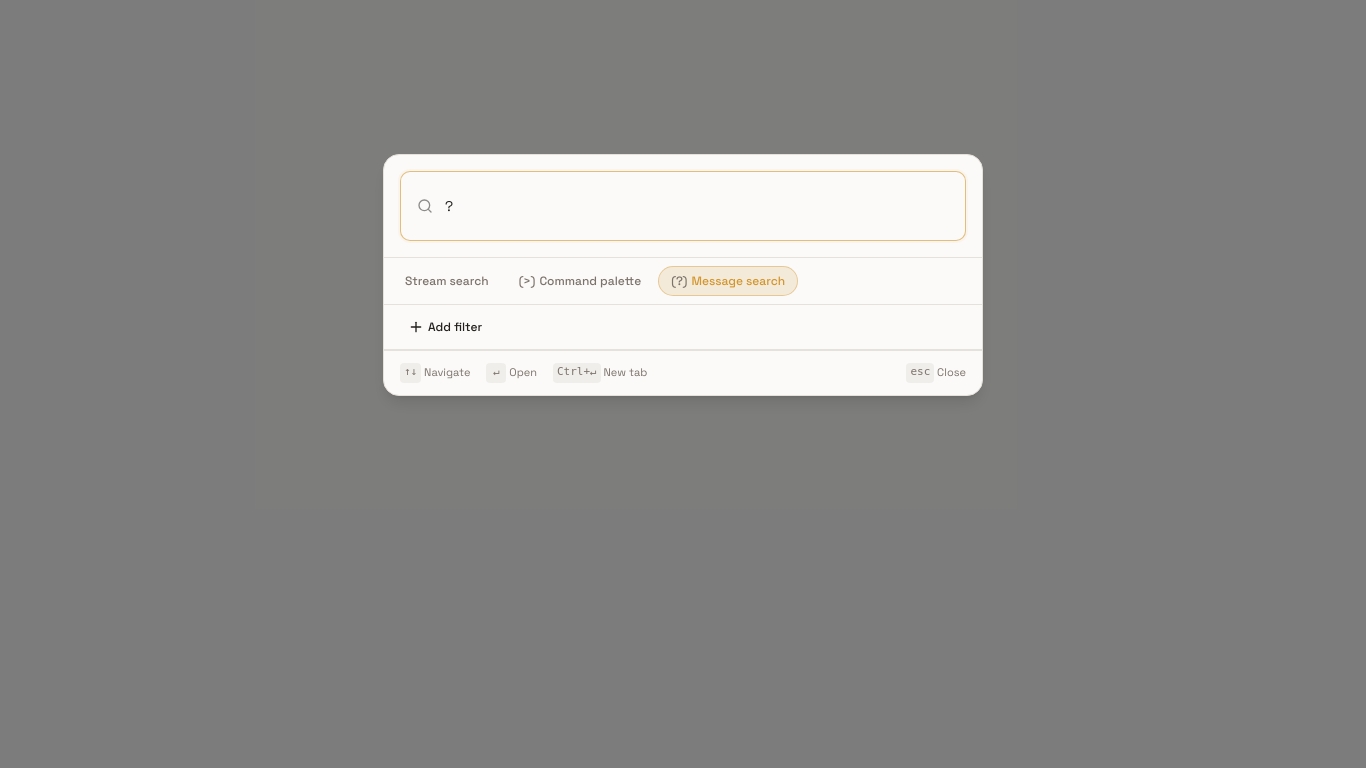
Test: QuickSwitcher Integration Tests › search mode › should add filter via dropdown menu
// Click "Add filter" button
Click the button "Add filter": {"x": 445, "y": 327} [396,313,494,341]
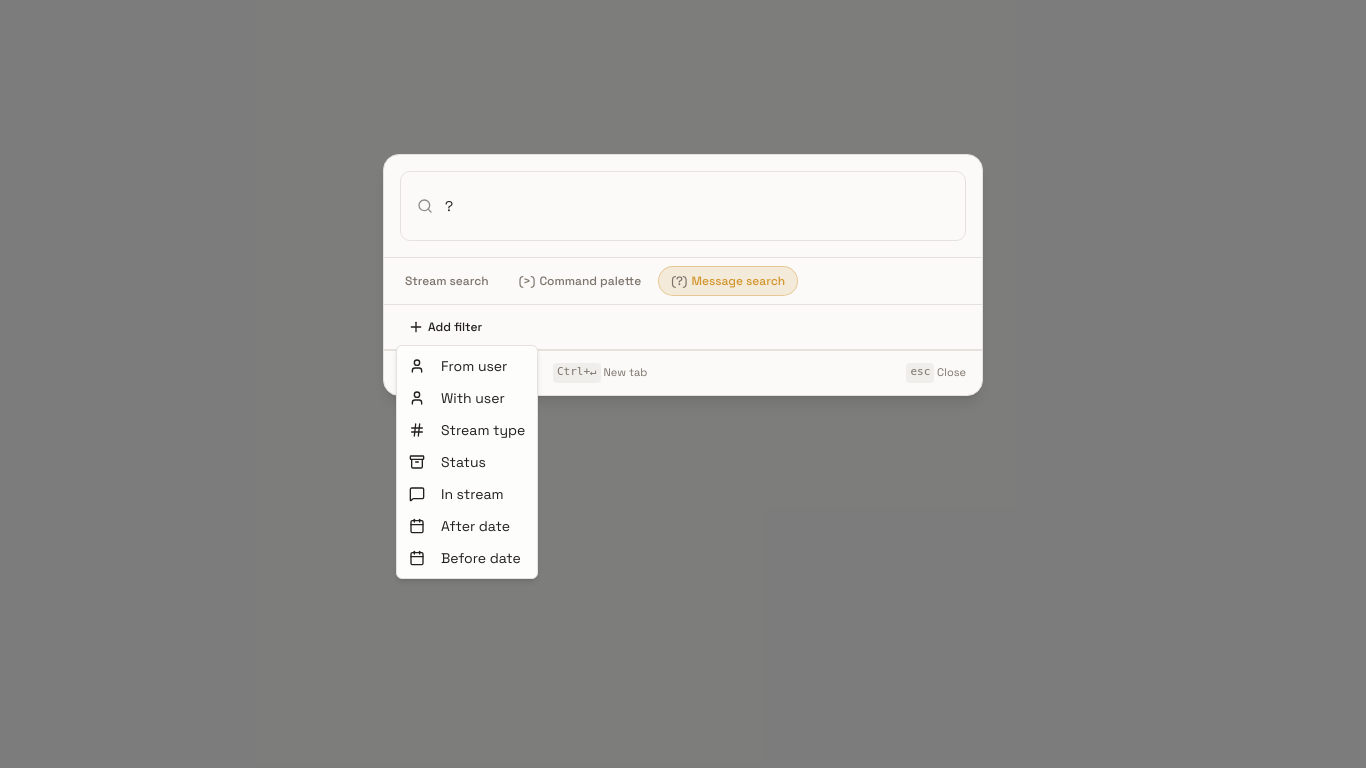
Now the text "Stream type" is shown, box [441,420,525,440]
Click the menu item "Stream type": {"x": 467, "y": 430} [409,421,525,439]
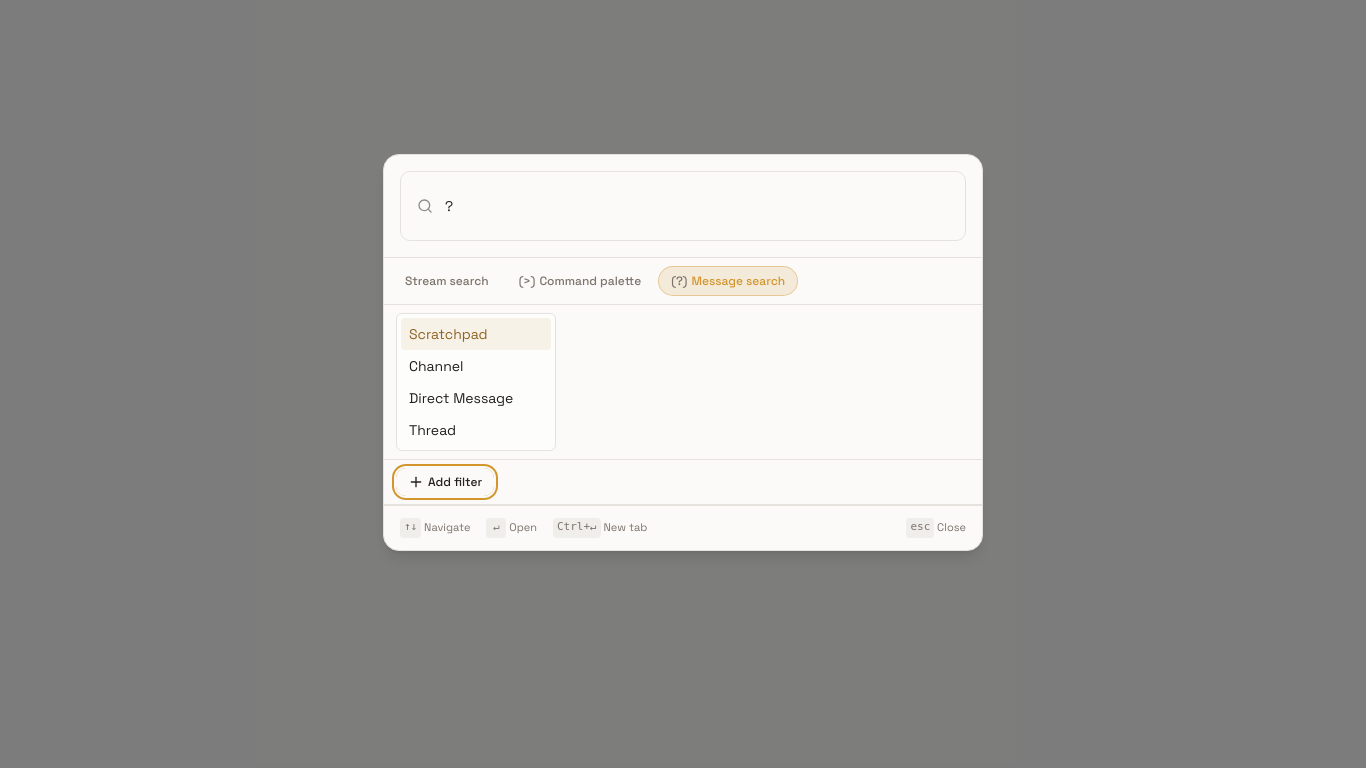
Now the option "Channel" is shown
Click the option "Channel": {"x": 436, "y": 366} [409,357,464,375]
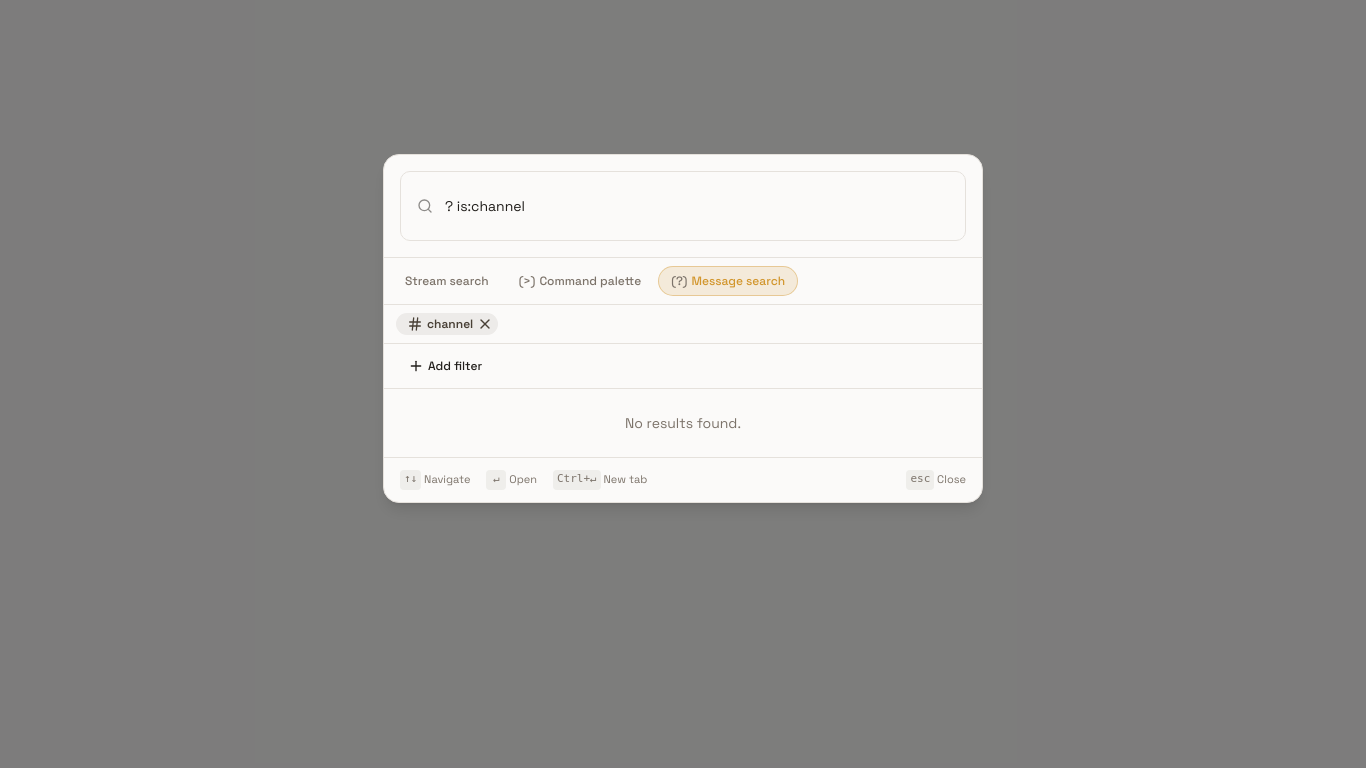
Now the text "channel" is shown, box [427,316,473,332]
